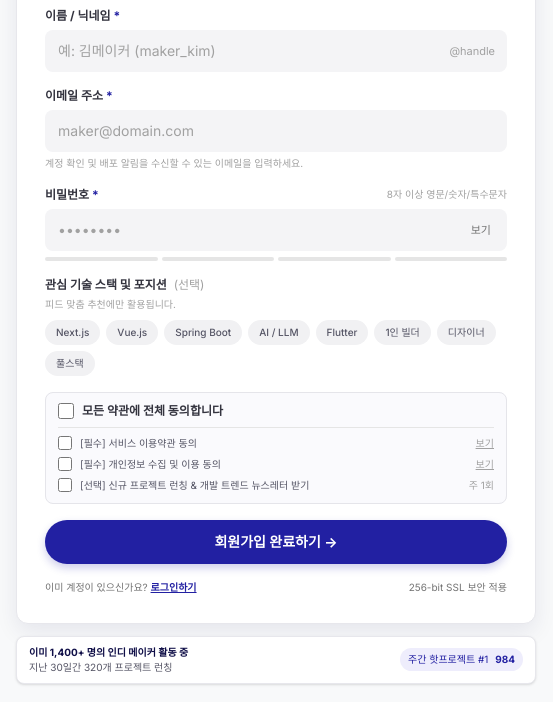
Scenario: SignupView › selects and clears every agreement from the all-agreements control
(page scrolled)
What coordinates should you click on to do the following:
click the checkbox with test id "all-agreements"
I would click on:
 (66, 411)
Its box is [58,403,74,419].
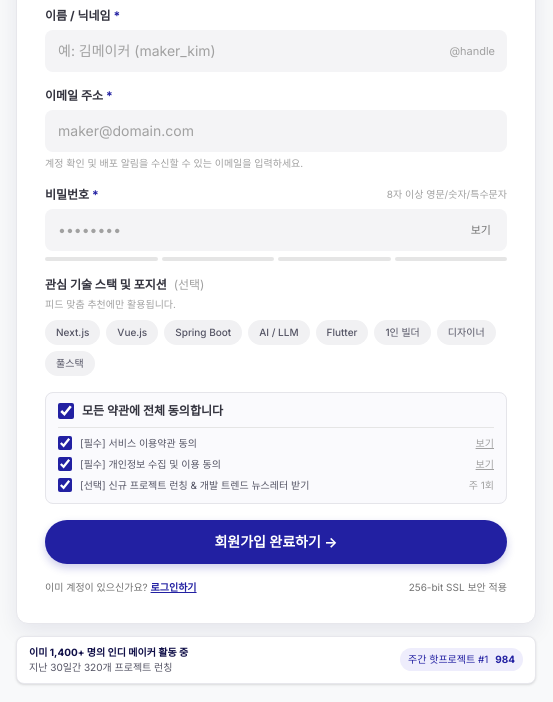
Now the checkbox with test id "terms-agreement" is checked, box [58,436,72,450]
Now the checkbox with test id "privacy-agreement" is checked, box [58,457,72,471]
Now the checkbox with test id "newsletter-agreement" is checked, box [58,478,72,492]
What coordinates should you click on to do the following:
click the checkbox with test id "all-agreements"
I would click on:
 (66, 411)
Its box is [58,403,74,419].
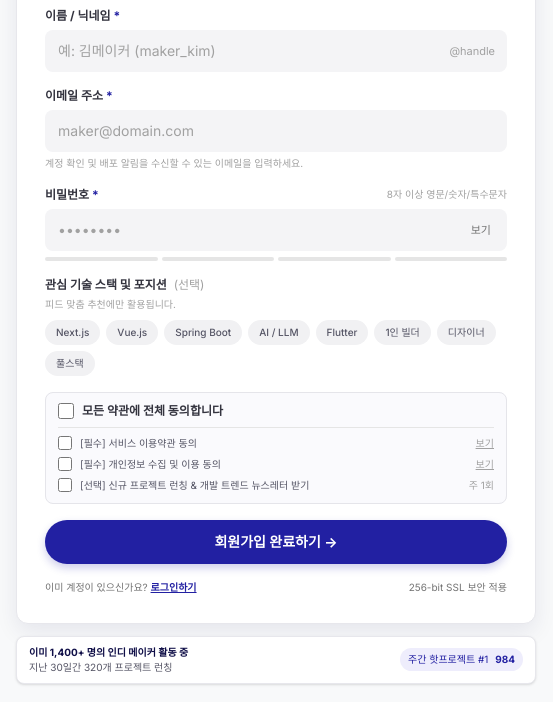
Now the checkbox with test id "terms-agreement" is not checked, box [58,436,72,450]
Now the checkbox with test id "privacy-agreement" is not checked, box [58,457,72,471]
Now the checkbox with test id "newsletter-agreement" is not checked, box [58,478,72,492]
